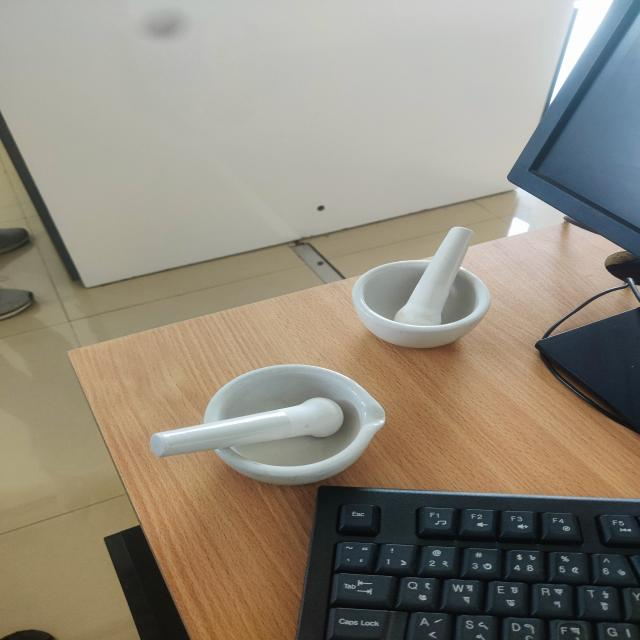Porcelain_Mortar Pestle: (126, 344, 408, 505), (342, 215, 507, 368)
